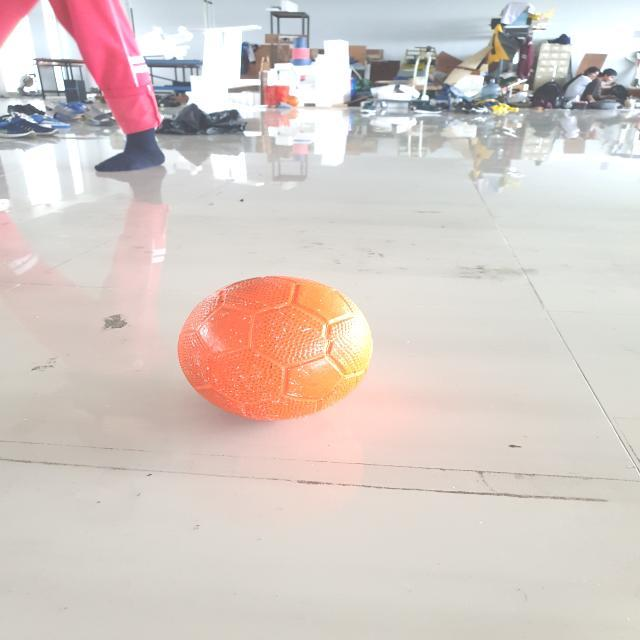bola: (173, 271, 383, 429)
